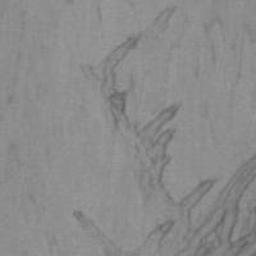Water spot: (70, 3, 256, 256), (44, 227, 84, 256)
